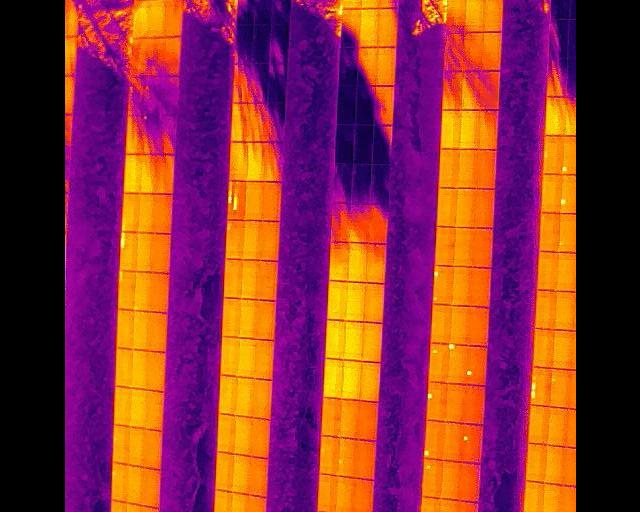Cell: (458, 422, 481, 462), (465, 346, 487, 385), (550, 368, 570, 408), (446, 344, 465, 385), (423, 420, 442, 460), (429, 343, 447, 383), (427, 382, 445, 421), (559, 175, 576, 215), (544, 135, 561, 174), (422, 459, 438, 497), (561, 136, 576, 175)
Cell-Multi: (432, 265, 452, 304), (530, 369, 550, 408), (226, 180, 243, 221)
No-Anomaly: (458, 385, 486, 424), (255, 220, 279, 261), (464, 307, 488, 347), (470, 189, 493, 228), (471, 149, 493, 189), (469, 228, 491, 268), (374, 48, 396, 87), (468, 267, 490, 306), (439, 110, 460, 150), (363, 283, 384, 323), (361, 322, 382, 362), (457, 462, 479, 500), (145, 311, 165, 352), (538, 213, 558, 254), (376, 9, 397, 48), (347, 243, 368, 282), (256, 261, 277, 300), (255, 301, 276, 340), (532, 329, 553, 368), (544, 97, 564, 137), (527, 405, 547, 445), (323, 360, 343, 400), (321, 398, 342, 436), (554, 291, 574, 330), (547, 407, 567, 446), (355, 440, 375, 479), (535, 290, 555, 329), (152, 234, 172, 273), (146, 351, 165, 392), (367, 244, 386, 284), (142, 431, 161, 471), (557, 213, 576, 253), (557, 252, 576, 292), (458, 110, 477, 150), (324, 320, 343, 360), (254, 339, 273, 379), (155, 154, 174, 194), (438, 461, 457, 500), (552, 330, 571, 369), (481, 32, 500, 71), (319, 437, 338, 476), (538, 252, 557, 291), (260, 182, 279, 221), (334, 475, 354, 512), (345, 282, 363, 323), (452, 227, 470, 268), (251, 379, 269, 420), (360, 362, 379, 400), (220, 298, 239, 336), (525, 444, 544, 482), (435, 187, 453, 227), (434, 227, 452, 267), (430, 304, 448, 344), (359, 8, 377, 48), (342, 360, 360, 400), (145, 390, 163, 430), (135, 233, 153, 273), (120, 193, 138, 233), (154, 194, 172, 234), (452, 188, 470, 228), (249, 418, 267, 458), (236, 338, 254, 378), (150, 272, 168, 312), (542, 174, 560, 214), (329, 243, 347, 282), (448, 305, 466, 344), (224, 220, 242, 259), (219, 337, 237, 376), (359, 400, 376, 441), (545, 445, 563, 483), (337, 438, 355, 476), (478, 111, 496, 149), (163, 0, 181, 38), (442, 421, 459, 461), (116, 310, 133, 350), (113, 387, 130, 427), (328, 281, 345, 321), (224, 258, 241, 298), (127, 464, 143, 506), (344, 322, 361, 361), (341, 399, 358, 438), (147, 0, 164, 39), (247, 457, 264, 496), (245, 142, 262, 181), (217, 414, 234, 453), (353, 479, 373, 512), (130, 388, 146, 429), (115, 348, 131, 389), (239, 298, 255, 339), (521, 481, 542, 512), (443, 383, 459, 423), (144, 469, 160, 509), (138, 194, 154, 234), (244, 181, 260, 221), (240, 259, 256, 299), (232, 453, 248, 493), (234, 415, 249, 457), (455, 151, 472, 188), (438, 149, 454, 188), (124, 154, 140, 193), (113, 425, 129, 464), (241, 220, 257, 259), (112, 463, 128, 501), (318, 474, 334, 512), (220, 376, 236, 414), (452, 266, 467, 306), (229, 102, 244, 142), (216, 452, 231, 492), (165, 37, 180, 77), (229, 141, 245, 178), (132, 310, 146, 352), (139, 154, 154, 193), (133, 272, 148, 311), (132, 0, 147, 39), (129, 427, 144, 466), (482, 0, 500, 32), (464, 0, 482, 32), (131, 349, 145, 390), (236, 377, 250, 417), (542, 483, 560, 512), (564, 448, 576, 486), (560, 486, 576, 512), (213, 490, 230, 512), (417, 497, 439, 512), (244, 496, 264, 512), (454, 500, 477, 512), (437, 499, 457, 512), (231, 492, 244, 512), (358, 0, 377, 10), (111, 501, 126, 512), (125, 503, 141, 512)
Shadowing: (548, 19, 569, 61), (350, 164, 371, 205), (263, 102, 285, 141), (371, 125, 392, 165), (353, 86, 374, 126), (248, 64, 269, 104), (373, 85, 393, 125), (356, 47, 376, 87), (339, 9, 359, 49), (249, 22, 268, 64), (441, 71, 461, 110), (546, 60, 566, 98), (479, 71, 498, 111), (144, 76, 162, 118), (268, 22, 286, 64), (352, 125, 371, 164), (330, 205, 349, 244), (460, 71, 479, 110), (126, 75, 144, 116), (443, 33, 462, 71), (368, 205, 387, 243), (333, 126, 352, 164), (371, 165, 389, 205), (339, 47, 357, 87), (337, 86, 355, 126), (262, 141, 280, 181), (349, 206, 368, 243), (463, 32, 481, 71), (245, 104, 263, 143), (332, 164, 349, 205), (233, 23, 250, 64), (268, 64, 286, 102), (130, 38, 147, 78), (139, 117, 157, 154), (157, 117, 175, 154), (162, 76, 178, 117), (148, 38, 164, 77), (231, 64, 247, 103), (446, 0, 464, 33), (124, 117, 139, 154), (236, 0, 255, 24), (550, 0, 572, 20), (272, 0, 291, 22), (255, 0, 272, 23), (342, 0, 361, 10), (377, 0, 400, 8)
Unclassified: (117, 271, 132, 310), (120, 231, 134, 271)
